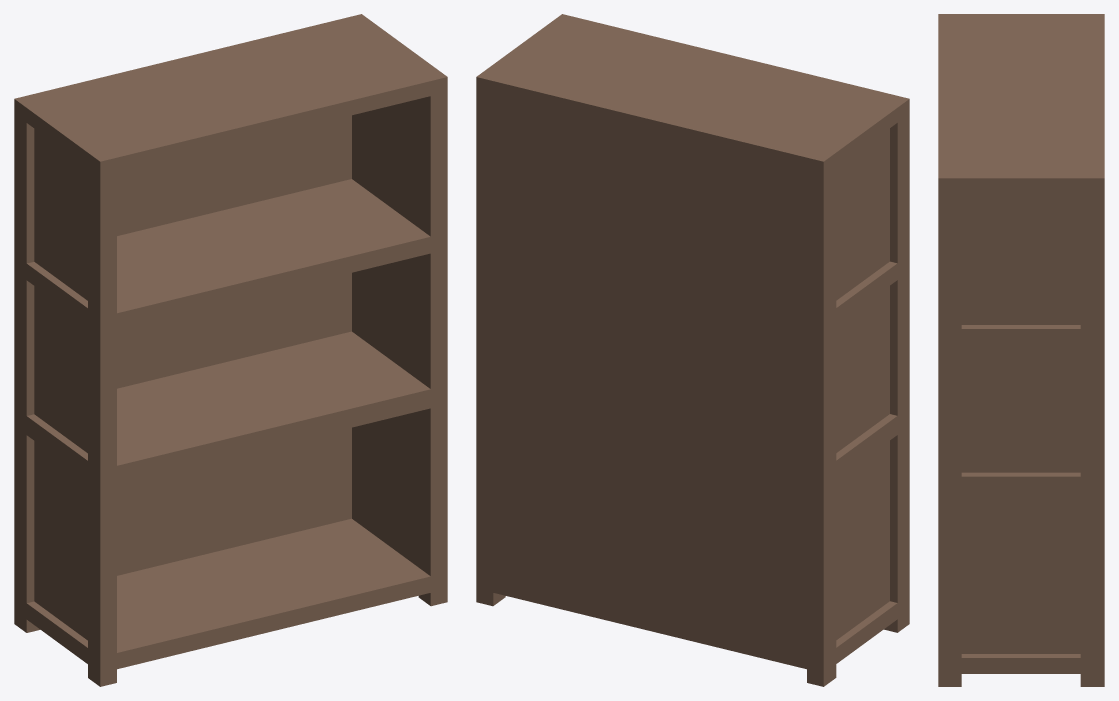
Rendered from Shelf.fbx.
The picture shows the model from 3 angles, left to right: view 1: azimuth 30°, elevation 25°; view 2: azimuth 150°, elevation 25°; view 3: azimuth 270°, elevation 25°; orthographic projection. The views are drawn at different scales.
Visible parts, largest first — view 1: pCube8; view 2: pCube8; view 3: pCube8.
Boxes of the visible parts, x1=… form: pCube8: x1=14, y1=14, x2=447, y2=686; pCube8: x1=476, y1=14, x2=909, y2=686; pCube8: x1=938, y1=14, x2=1104, y2=686.
Size of the model in its own units: 3.28 by 4.74 by 1.41.
